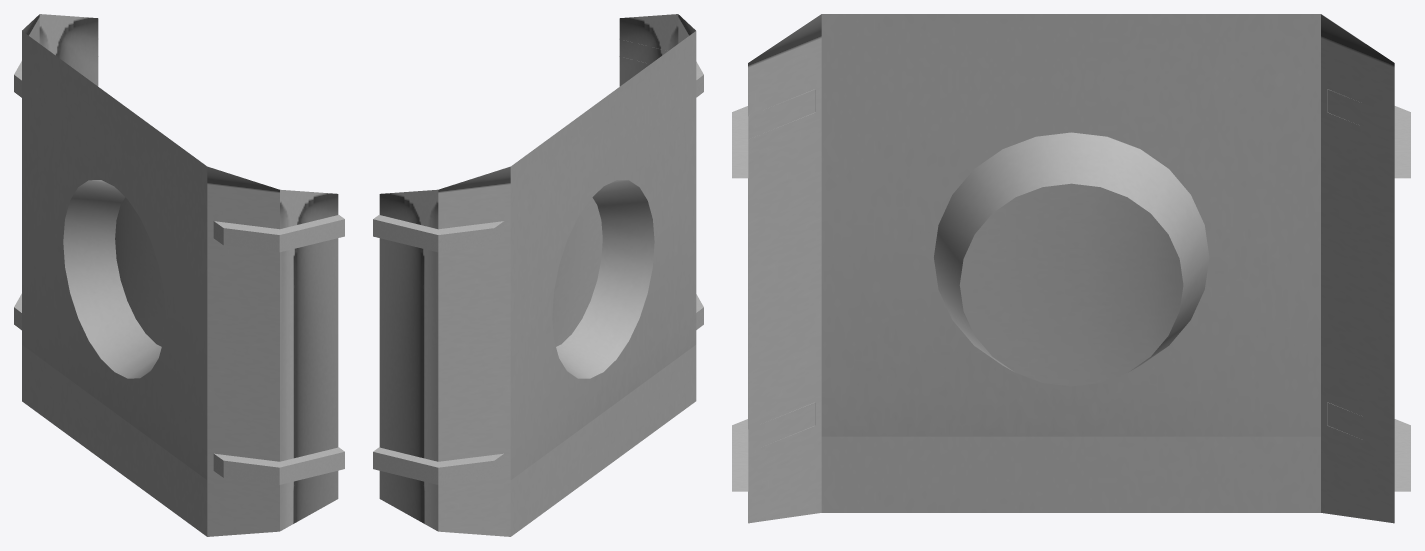
The model's file is wallPanel.FBX.
The picture shows the model from 3 angles, left to right: view 1: azimuth 30°, elevation 25°; view 2: azimuth 150°, elevation 25°; view 3: azimuth 270°, elevation 25°; orthographic projection. The views are drawn at different scales.
Visible parts, largest first — view 1: wallPanel; view 2: wallPanel; view 3: wallPanel.
Boxes of the visible parts, x1=… form: wallPanel: x1=14, y1=14, x2=344, y2=536; wallPanel: x1=373, y1=14, x2=703, y2=536; wallPanel: x1=732, y1=14, x2=1410, y2=523.
Size of the model in its own units: 2.21 by 9.22 by 7.48.
